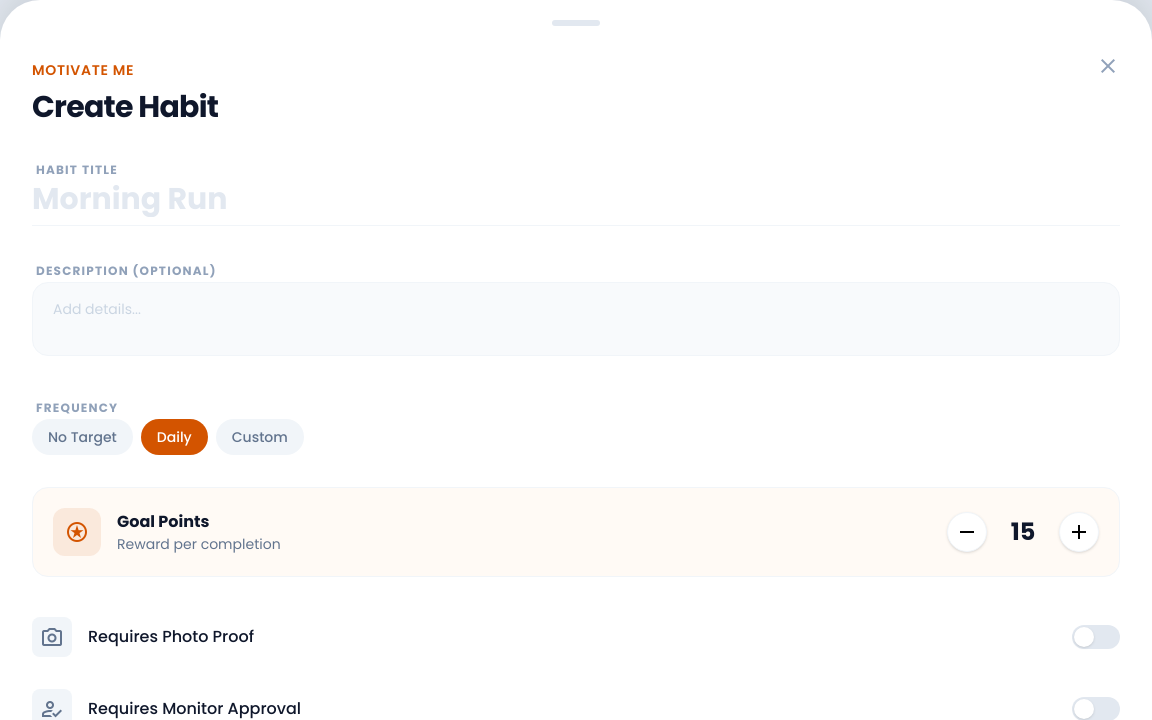
Scenario: CreateHabit › increments points
Click the button named "Increase points" at [1079, 532], box [1059, 512, 1099, 552]
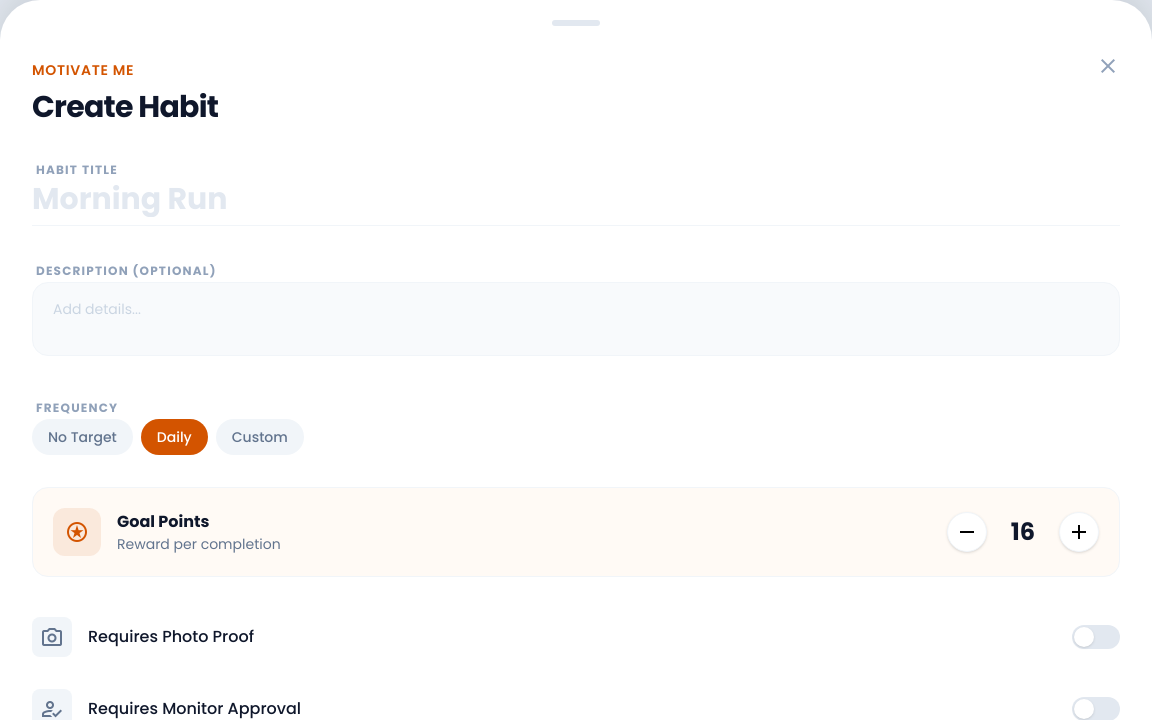
Expected: the text named "16 points" is shown, [1011, 515, 1035, 548]
